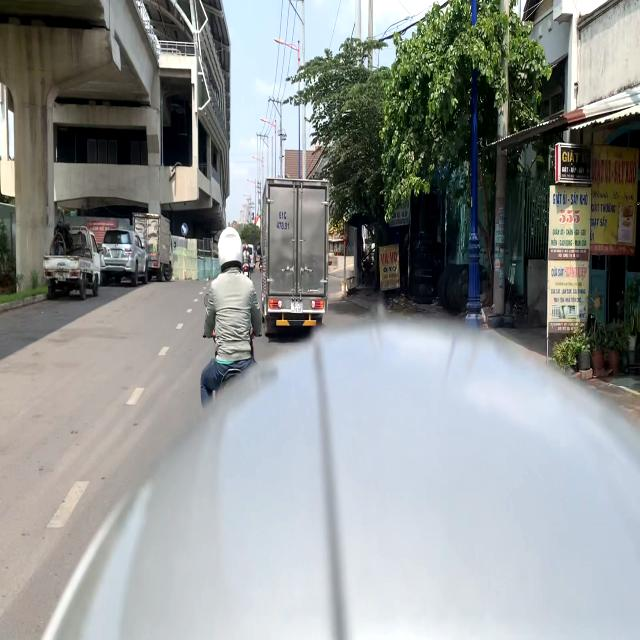R.302a: (181, 222, 188, 236)
